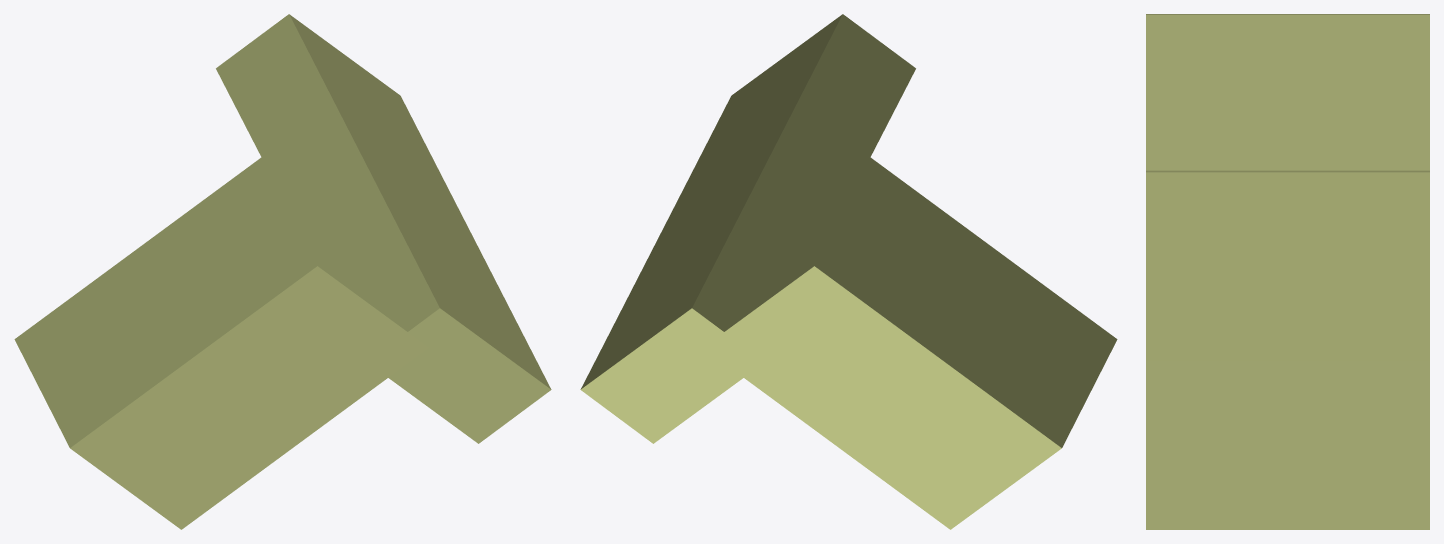
3 renders of one model, left to right at view 1: azimuth 30°, elevation 25°; view 2: azimuth 150°, elevation 25°; view 3: azimuth 270°, elevation 25°, orthographic. The views are drawn at different scales.
Parts seen in each view (by area): view 1: 0_1_1_3_3_0_0_3_0_3_1; view 2: 0_1_1_3_3_0_0_3_0_3_1; view 3: 0_1_1_3_3_0_0_3_0_3_1.
Part boxes in pixels (x1,y1,x2,y2): 0_1_1_3_3_0_0_3_0_3_1: [14, 14, 551, 529]; 0_1_1_3_3_0_0_3_0_3_1: [580, 14, 1117, 529]; 0_1_1_3_3_0_0_3_0_3_1: [1146, 14, 1429, 529].
Bounding box in the file's own units: 13.21 × 11.3 × 6.
